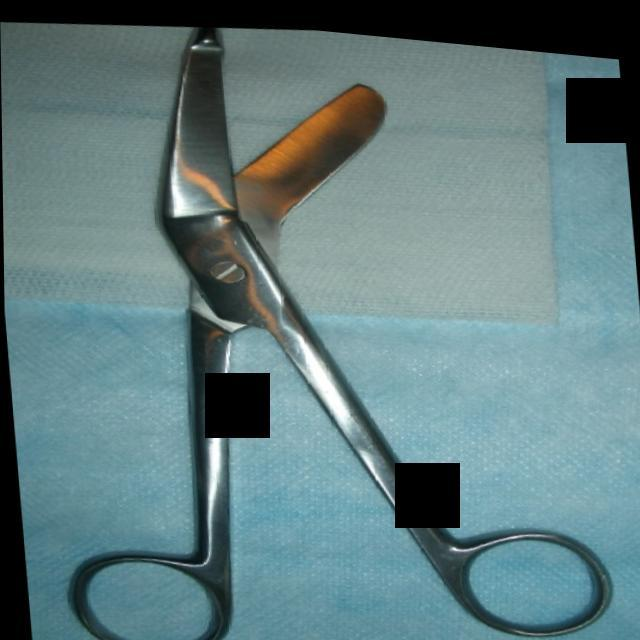Bandage Sciccors: (14, 1, 622, 640)
